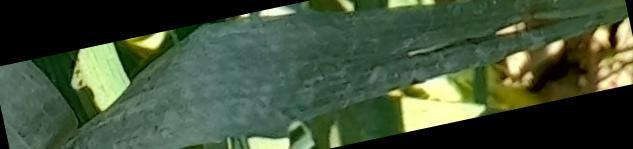Wheat: (190, 38, 326, 109), (335, 21, 436, 79), (458, 1, 540, 45), (109, 109, 179, 147)
